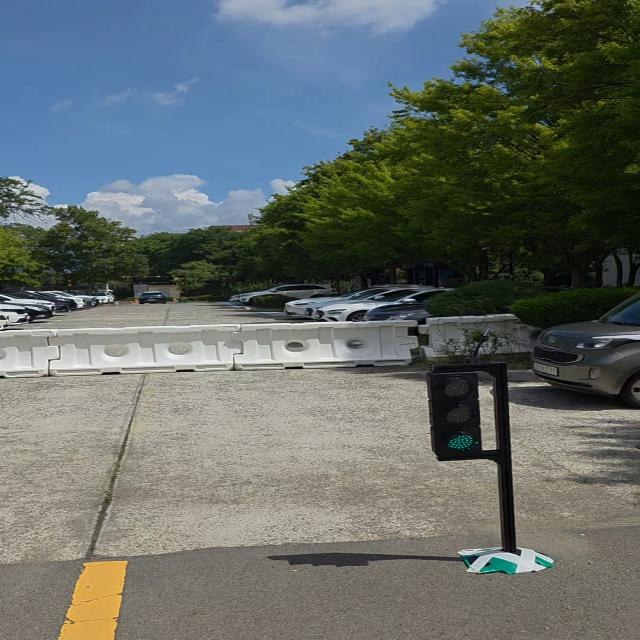green: (431, 368, 485, 458)
